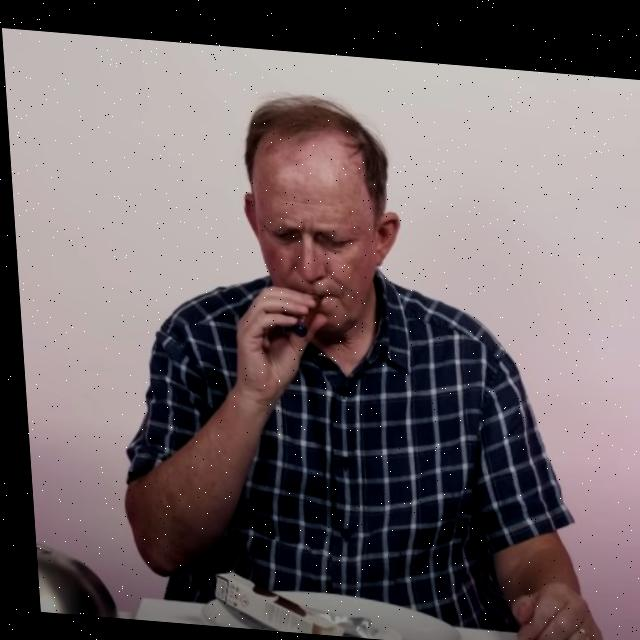vape: (287, 286, 322, 335)
